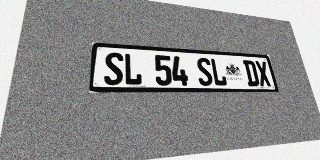4: (171, 56, 189, 86)
5: (154, 55, 172, 86)
D: (243, 60, 260, 86)
L: (124, 53, 142, 85), (210, 58, 228, 86)
S: (104, 52, 123, 85), (196, 57, 214, 86)
X: (254, 61, 272, 86)
